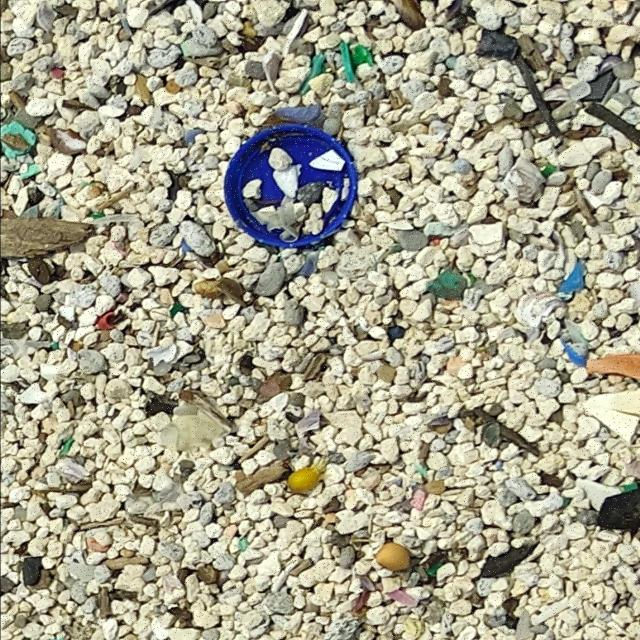plastic_waste: (226, 123, 362, 251)
